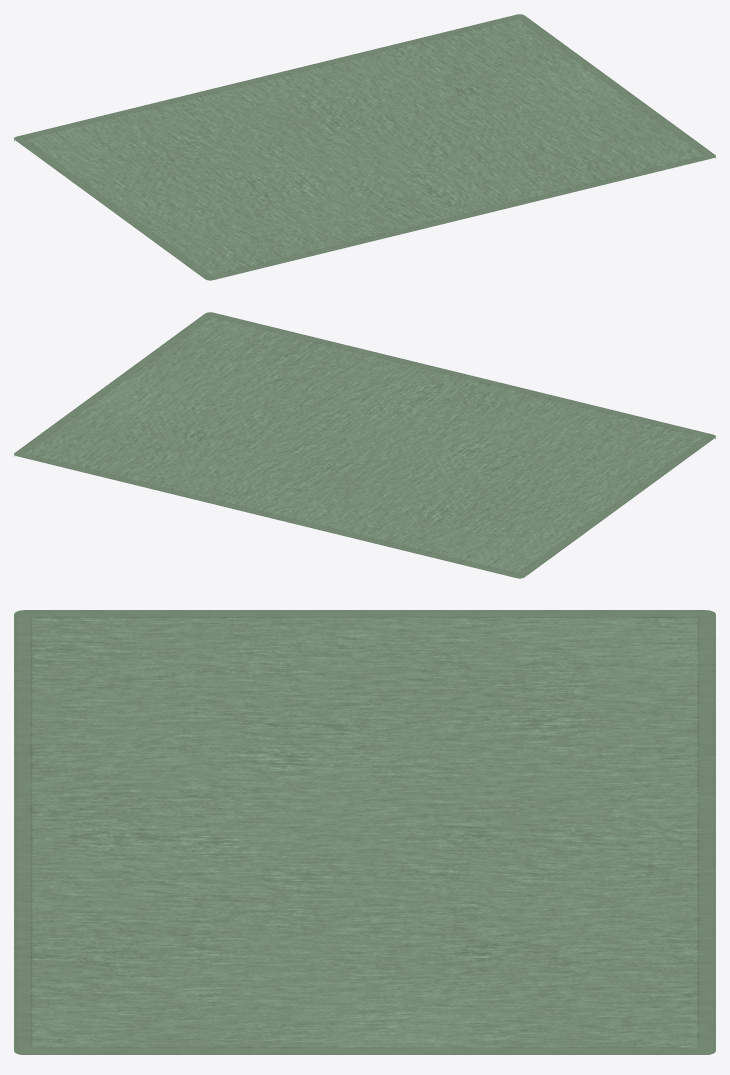
Rendered from green_S_r90.glb.
3 renders of one model, top to bottom at view 1: azimuth 30°, elevation 25°; view 2: azimuth 150°, elevation 25°; view 3: azimuth 270°, elevation 25°, orthographic. The views are drawn at different scales.
Parts seen in each view (by area): view 1: reliv_green_S_r90; view 2: reliv_green_S_r90; view 3: reliv_green_S_r90.
Part boxes in pixels (left/top/right/bottom): reliv_green_S_r90: left=14, top=14, right=715, bottom=280; reliv_green_S_r90: left=14, top=312, right=715, bottom=578; reliv_green_S_r90: left=14, top=610, right=715, bottom=1054.
Bounding box in the file's own units: 1.5 × 0.009 × 1.
2 materials, 1 textured.
